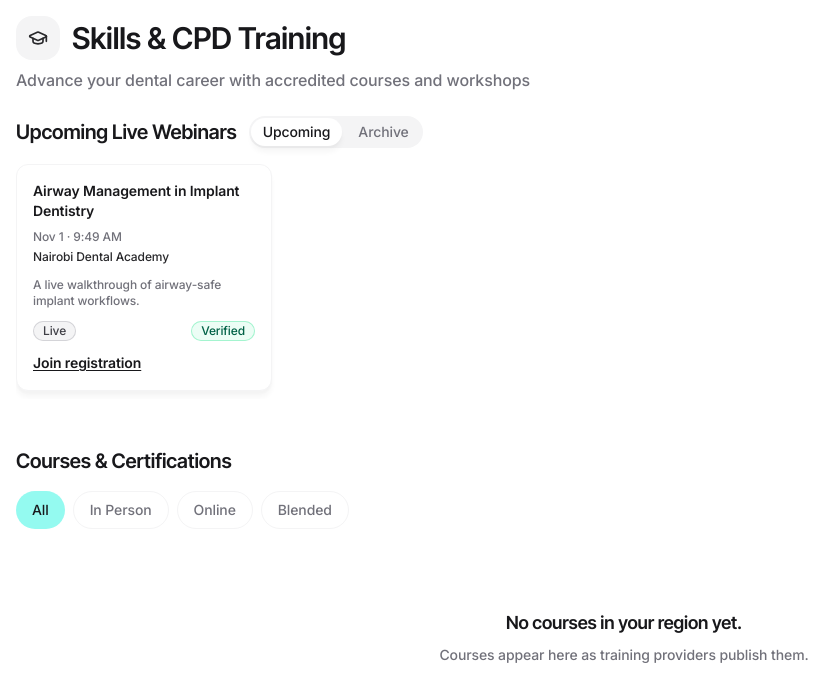
Test: Training › explains an empty catalogue separately from an empty filter result
The image size is (825, 680).
Expected: the text "No courses in your region yet." is shown, [506,612,742,633]
Click the button "Online".
click(215, 510)  # box [177,491,253,529]
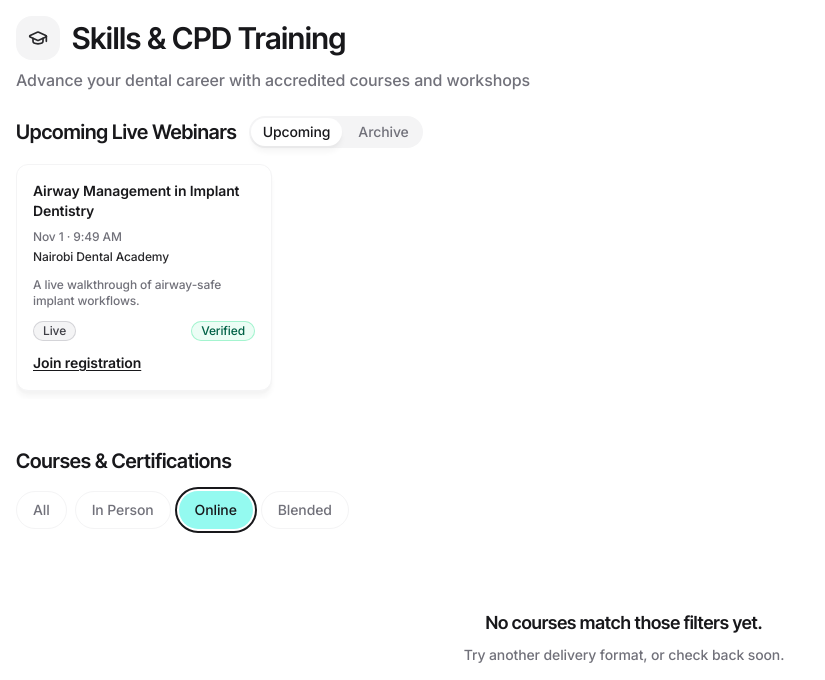
Expected: the text "No courses match those filters yet." is shown, [485,612,763,633]
